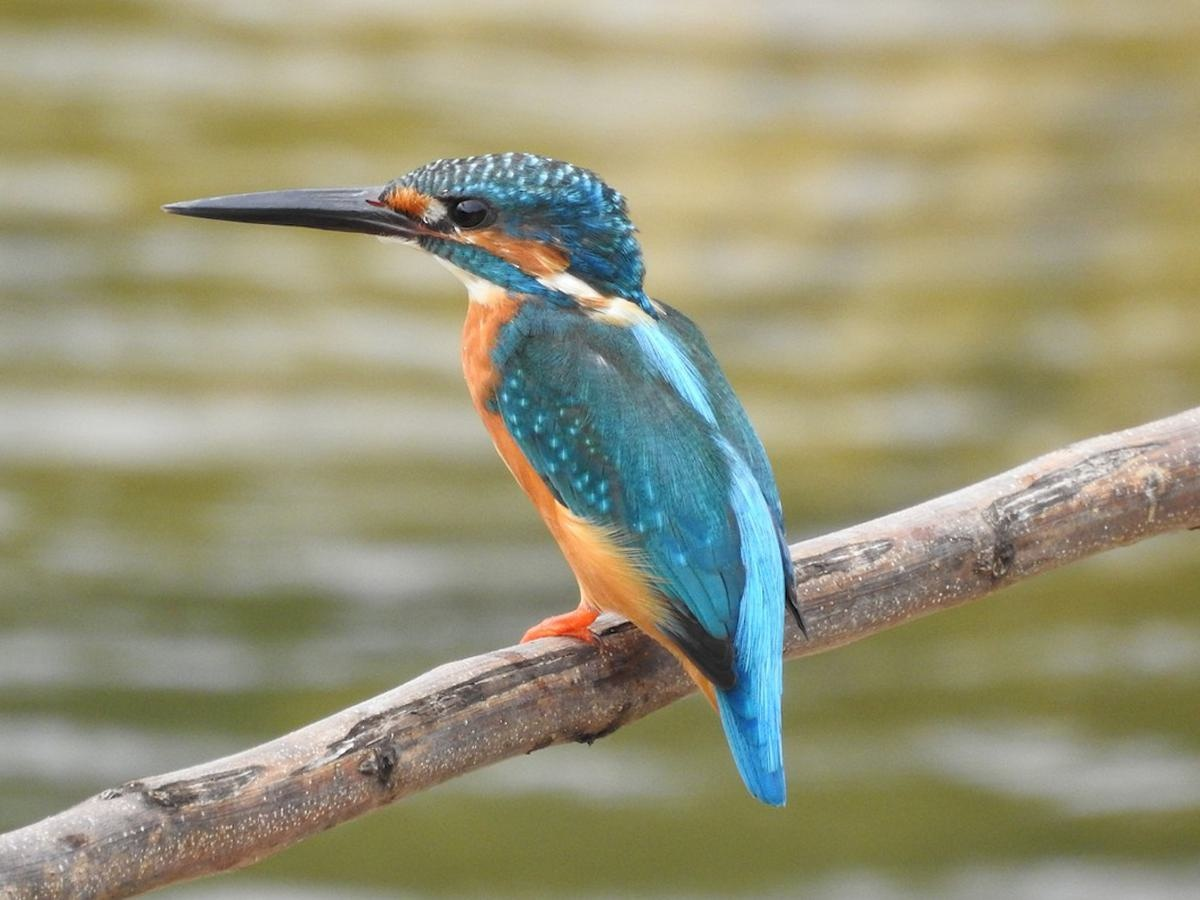kingfisher: (141, 141, 837, 805)
